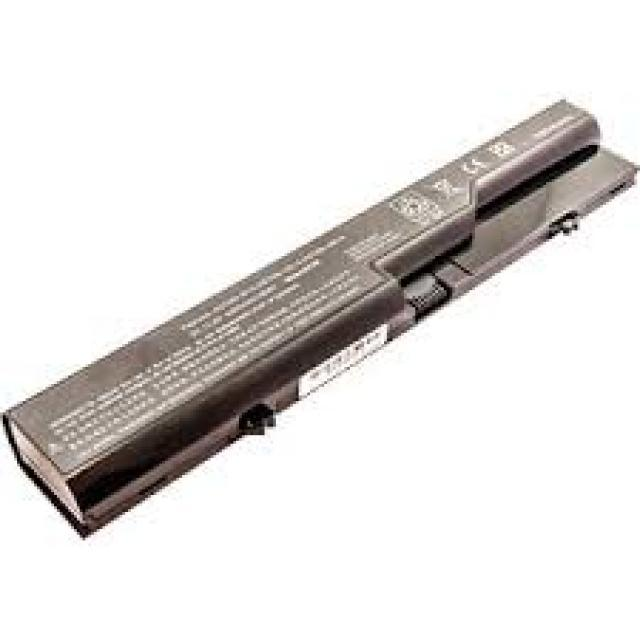battery: (0, 99, 640, 536)
